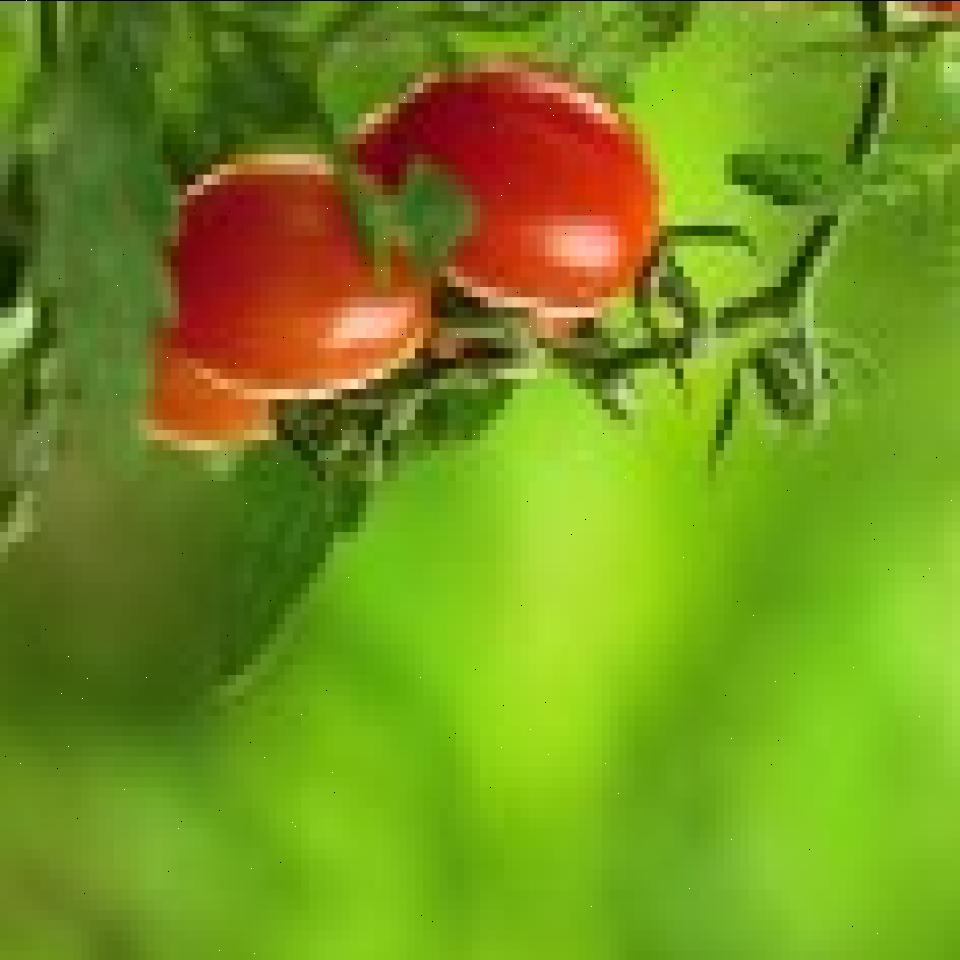Healthy: (177, 158, 451, 442), (382, 56, 678, 292)
